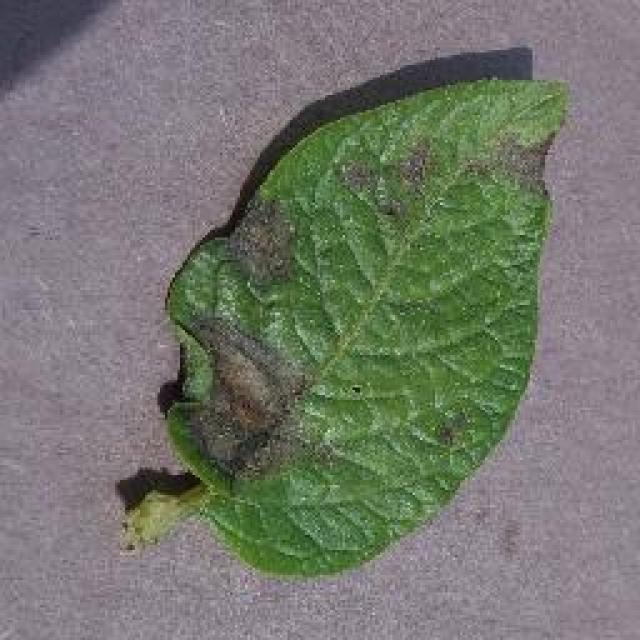late_blight: (122, 62, 572, 582)
